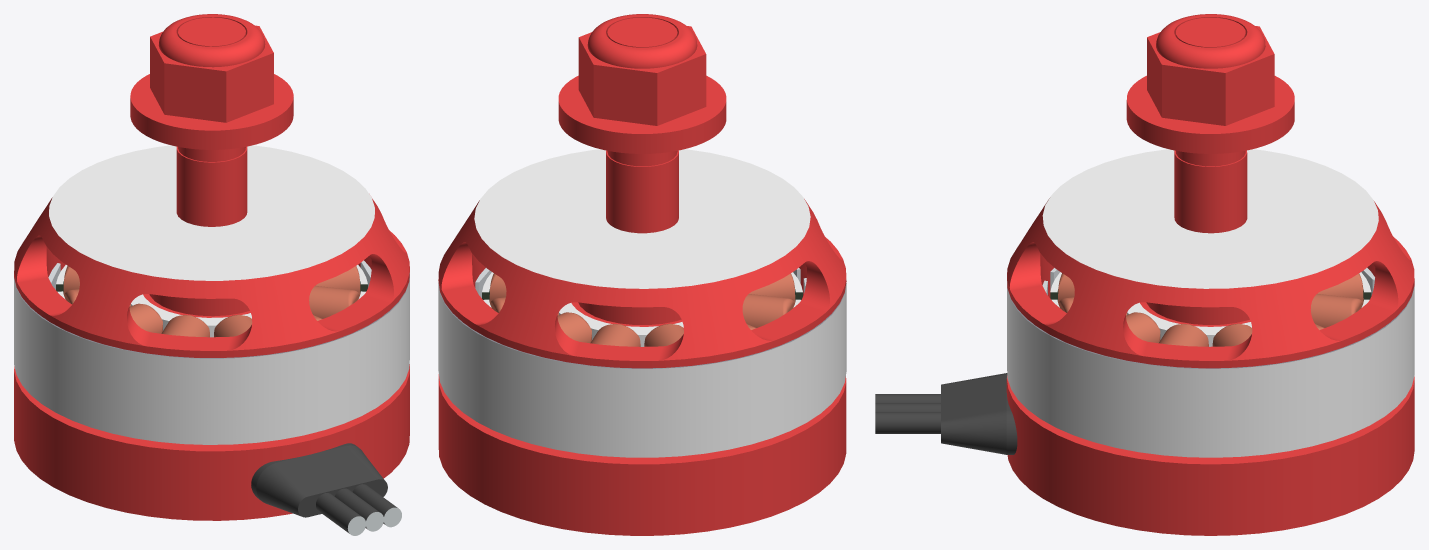
File: motor.fbx
3 renders of one model, left to right at view 1: azimuth 30°, elevation 25°; view 2: azimuth 150°, elevation 25°; view 3: azimuth 270°, elevation 25°, orthographic. The views are drawn at different scales.
Visible parts, largest first — view 1: racerstarBR2205Rotor_Simplified, racerstarBR2205Stator_Simplified, racerstarBR2205Cap_Simplified; view 2: racerstarBR2205Rotor_Simplified, racerstarBR2205Stator_Simplified, racerstarBR2205Cap_Simplified; view 3: racerstarBR2205Rotor_Simplified, racerstarBR2205Stator_Simplified, racerstarBR2205Cap_Simplified.
Boxes of the visible parts, <box> form: racerstarBR2205Rotor_Simplified: <box>14,17,409,444</box>; racerstarBR2205Stator_Simplified: <box>14,265,409,535</box>; racerstarBR2205Cap_Simplified: <box>130,14,293,149</box>; racerstarBR2205Rotor_Simplified: <box>438,17,846,457</box>; racerstarBR2205Stator_Simplified: <box>438,272,846,535</box>; racerstarBR2205Cap_Simplified: <box>558,14,726,153</box>; racerstarBR2205Rotor_Simplified: <box>1007,17,1414,457</box>; racerstarBR2205Stator_Simplified: <box>875,272,1414,535</box>; racerstarBR2205Cap_Simplified: <box>1126,14,1294,153</box>.
Size of the model in its own units: 279 by 315 by 369.
